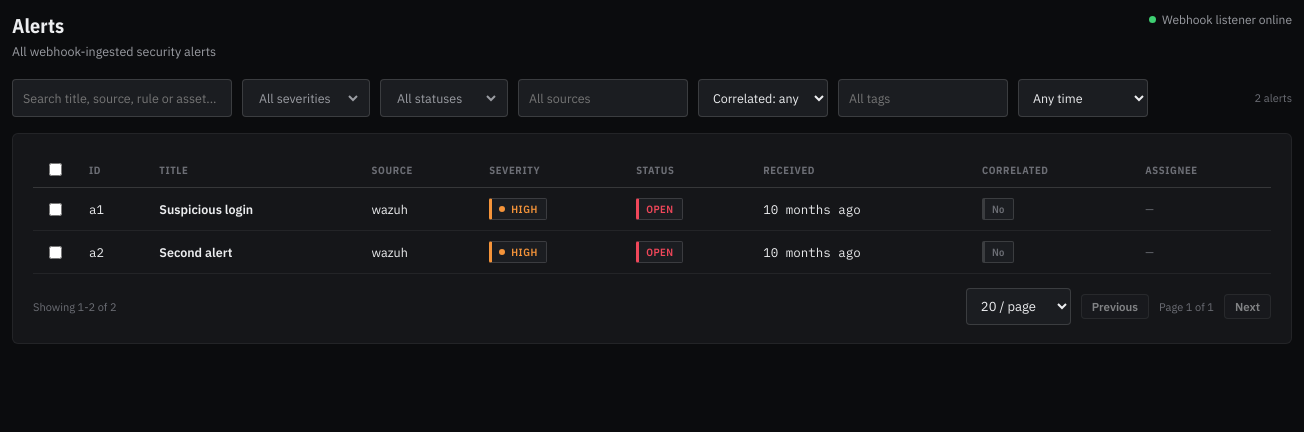
Test: AlertsListPage › bulk status-change › the header checkbox selects and deselects every row on the page
The image size is (1304, 432).
expect the text "Suspicious login" is shown: met, box [147,188,360,230]
Click the checkbox named "Select all alerts on this page" at point(56, 170), box [49,163,62,176]
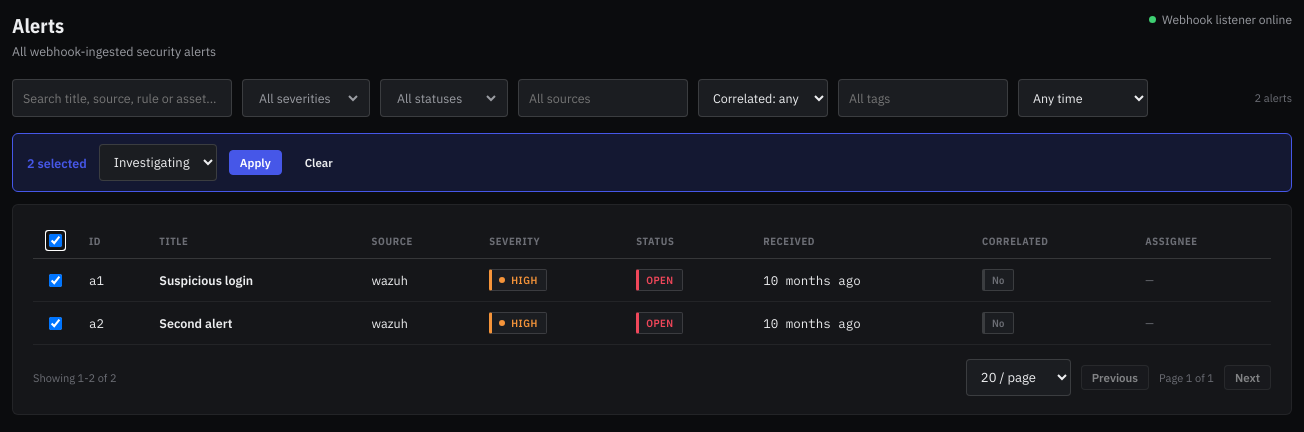
expect the text "2 selected" is shown: met, box [27,154,87,170]
Click the checkbox named "Select all alerts on this page" at point(56, 240), box [49,234,62,247]
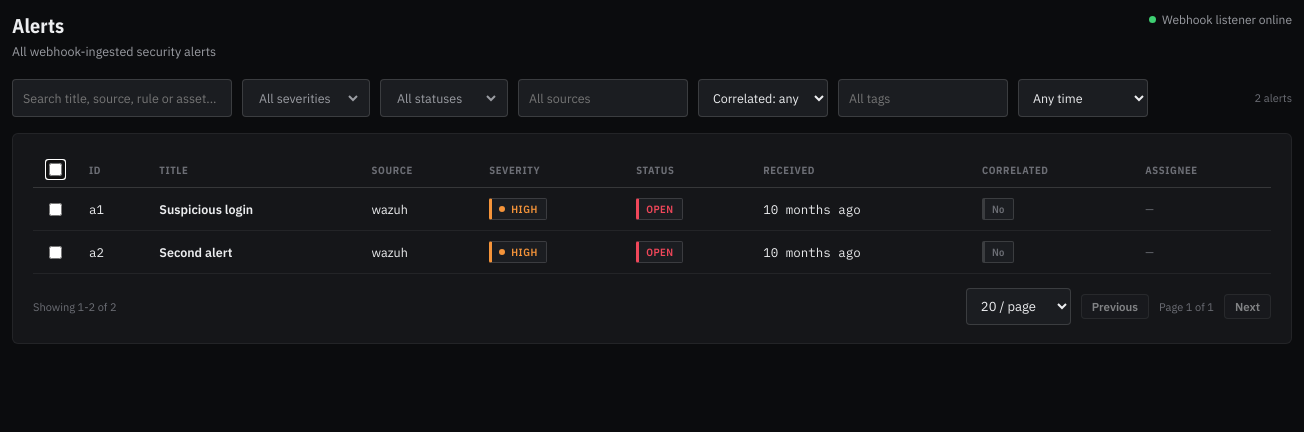
expect the text "selected" is gone: met
